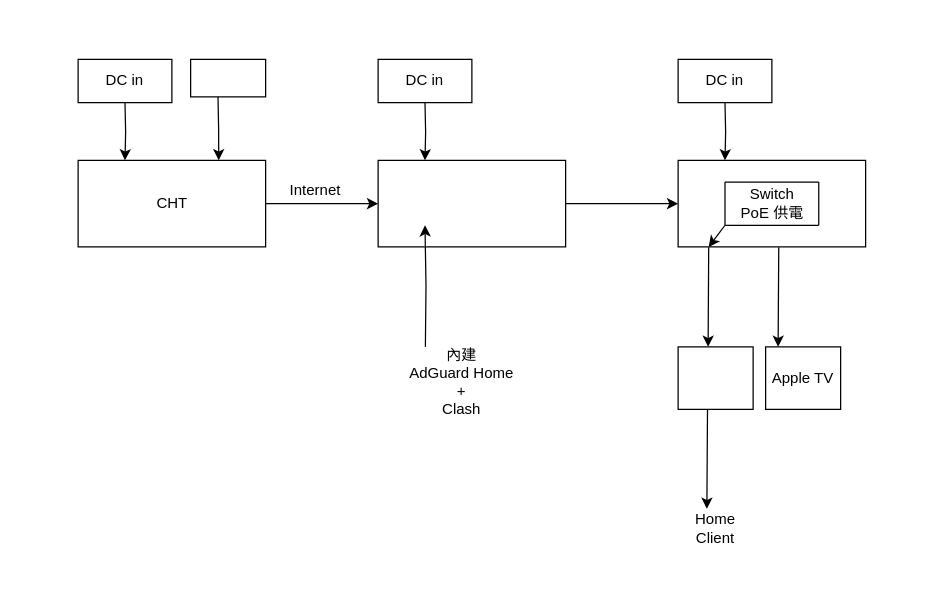
This 943x613 diagram has some shape labels left out. The shapes that lost their labels are listed below. From the top down, each one's centre as x and y in pixels, then its label:
At pixel 227 77: "光纖 in".
At pixel 471 203: "pfsense".
At pixel 715 377: "Aruba AP12".
